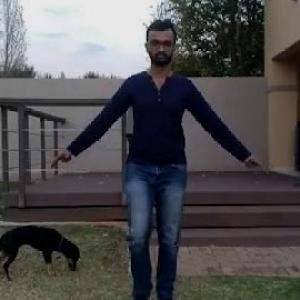land: (73, 38, 237, 296)
